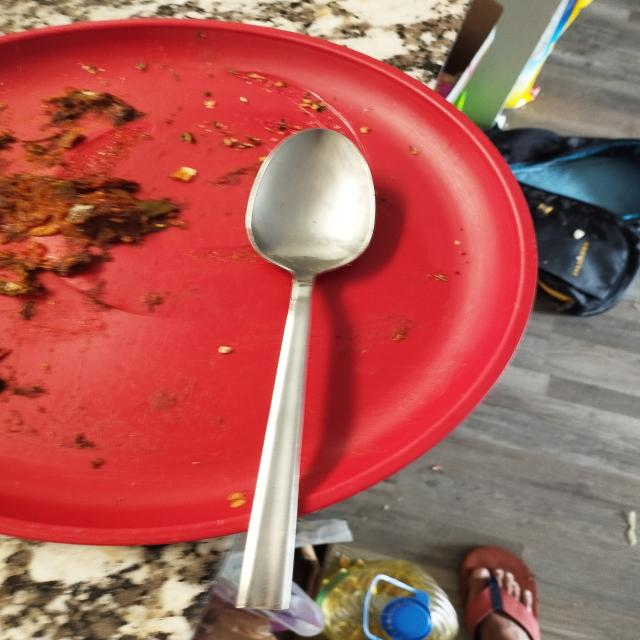Spoon: (209, 107, 395, 639)
